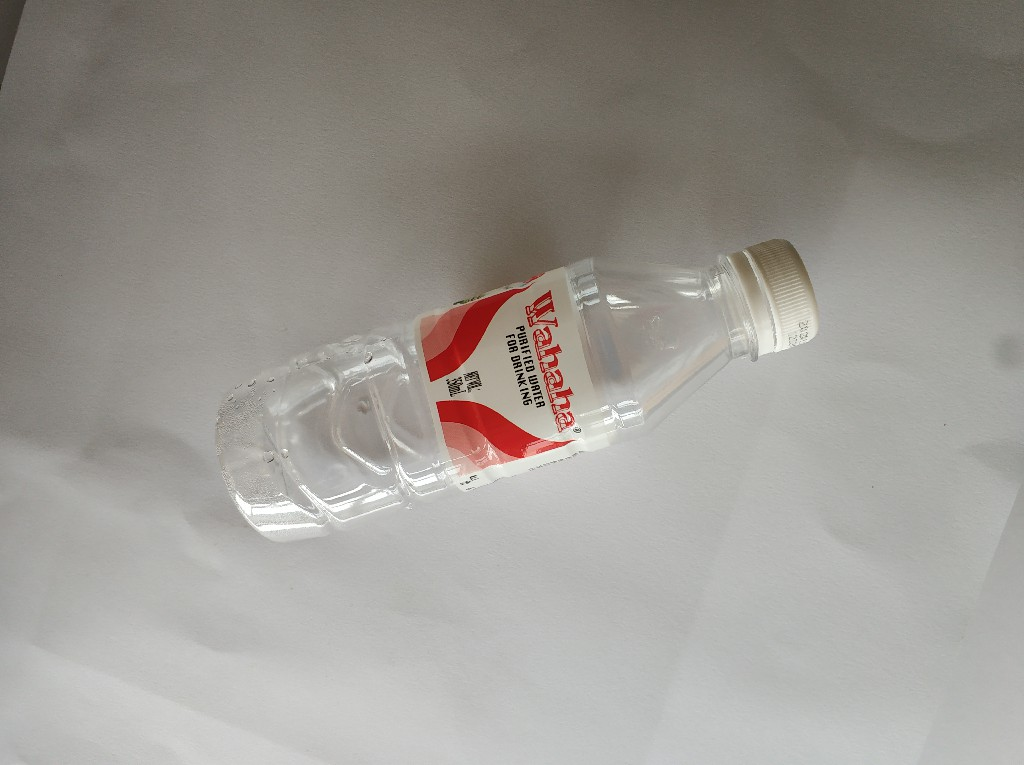bottle: (209, 230, 826, 548)
